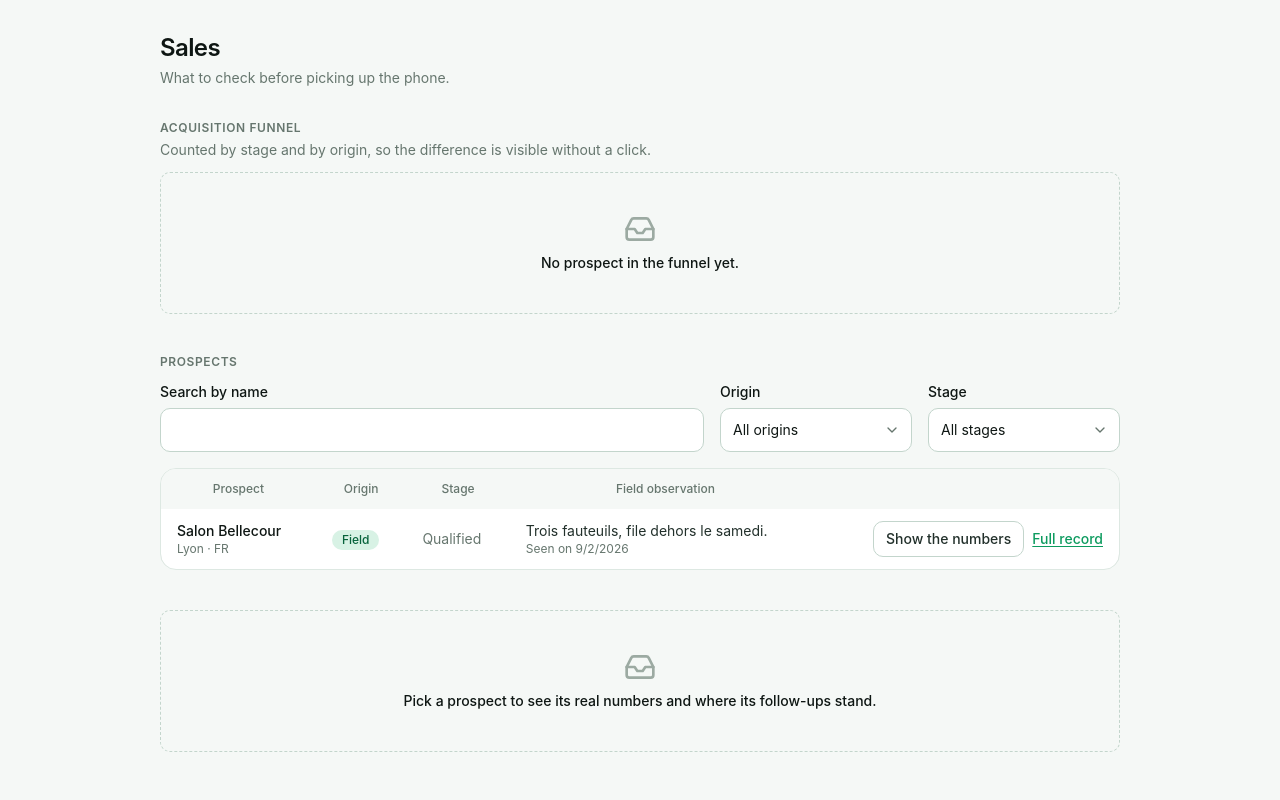
Test: PlatformSalesPage — /platform/sales › says an unpublished record has nothing to measure instead of showing a table of zeros
The width and height of the screenshot is (1280, 800).
Step 1. Click the button "Salon Bellecour" → (229, 531), box [177,521,281,541]
(page scrolled)
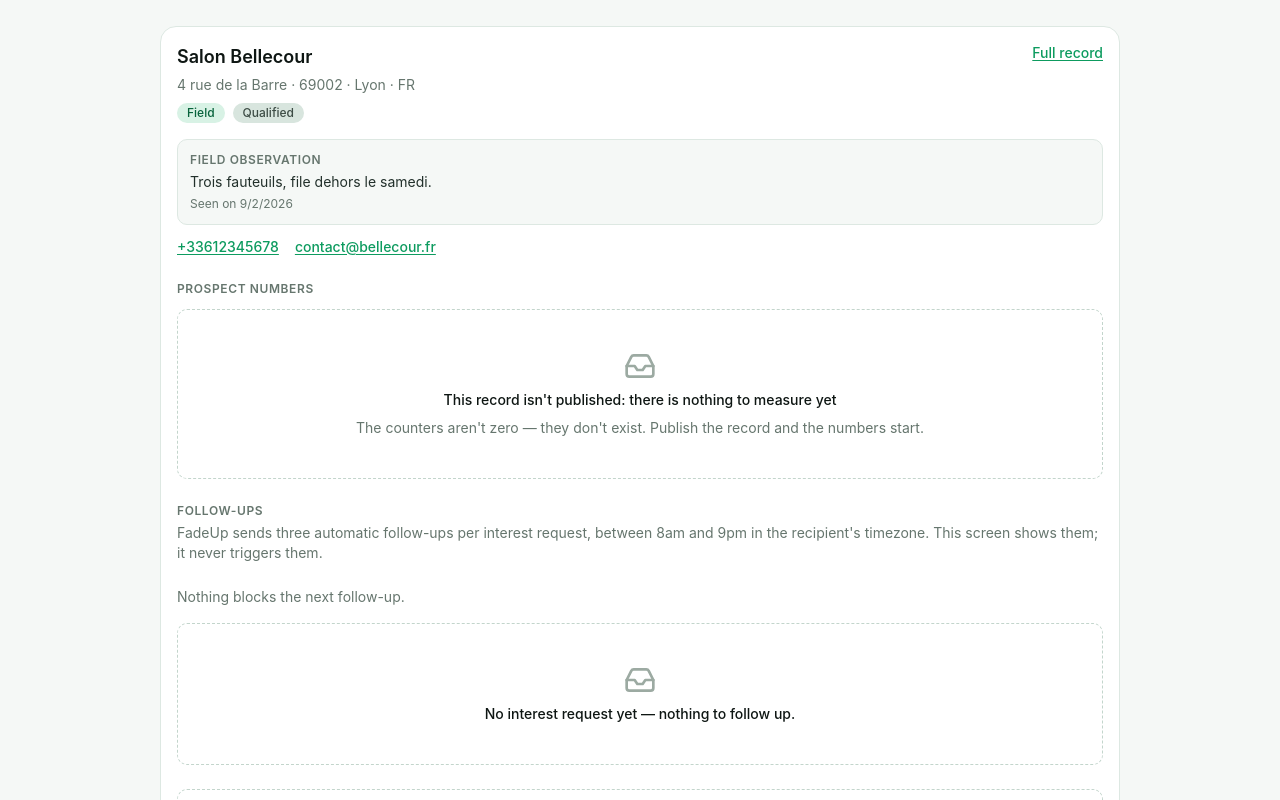
Expected: the text "This record isn't published: there is nothing to measure yet" is shown, [444,390,836,410]
